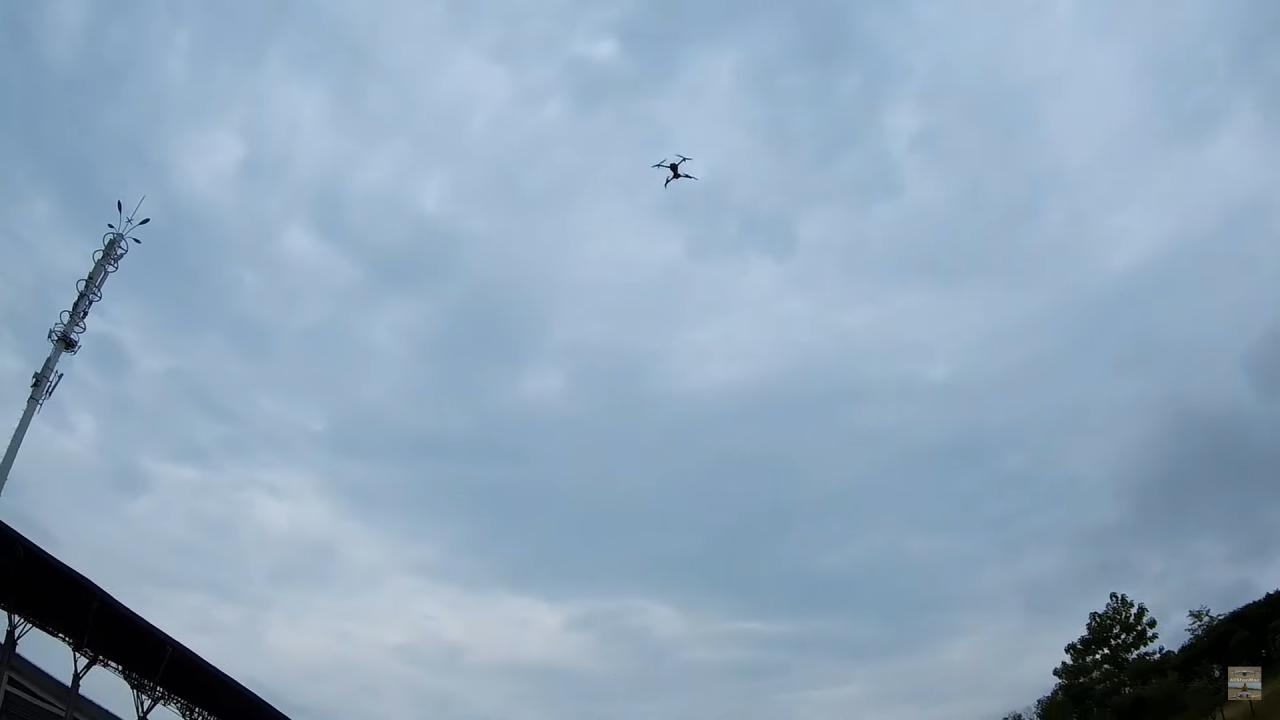Drone: (645, 148, 706, 200)
